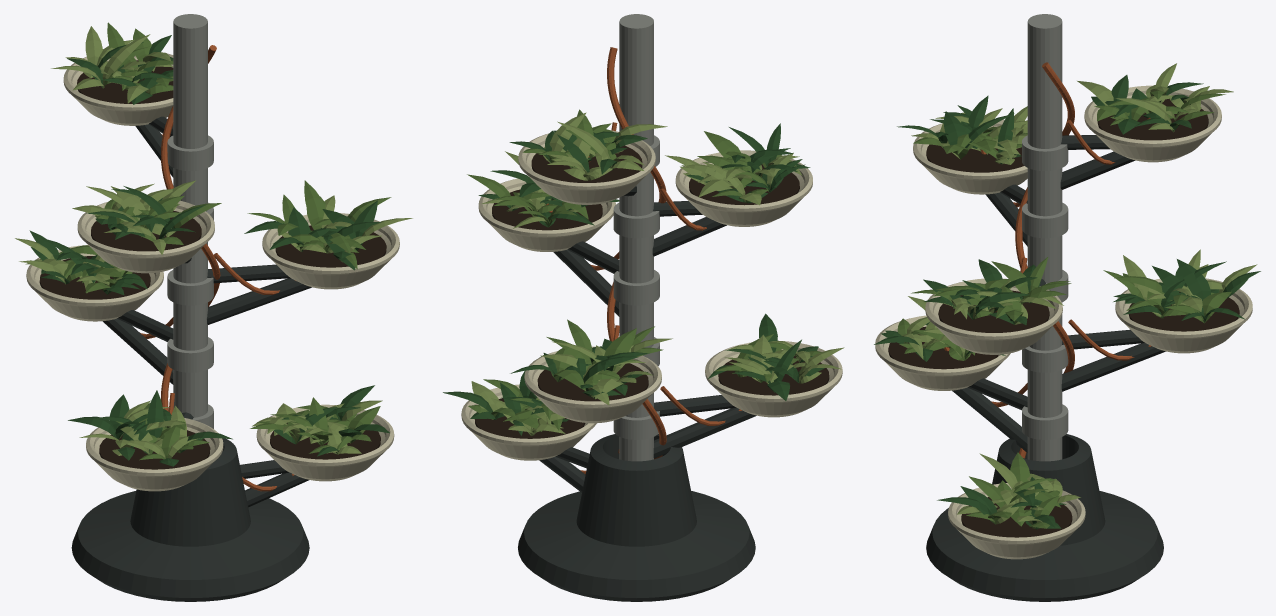
Rendered from Dewfall.obj.
3 renders of one model, left to right at view 1: azimuth 30°, elevation 25°; view 2: azimuth 150°, elevation 25°; view 3: azimuth 270°, elevation 25°, orthographic.
Parts seen in each view (by area): view 1: Dewfall; view 2: Dewfall; view 3: Dewfall.
Part boxes in pixels (box(x1,y1,x2,y2)): Dewfall: box(15, 14, 412, 601); Dewfall: box(443, 14, 844, 601); Dewfall: box(874, 14, 1260, 601).
Bounding box in the file's own units: 2.6 × 3.82 × 2.51.
